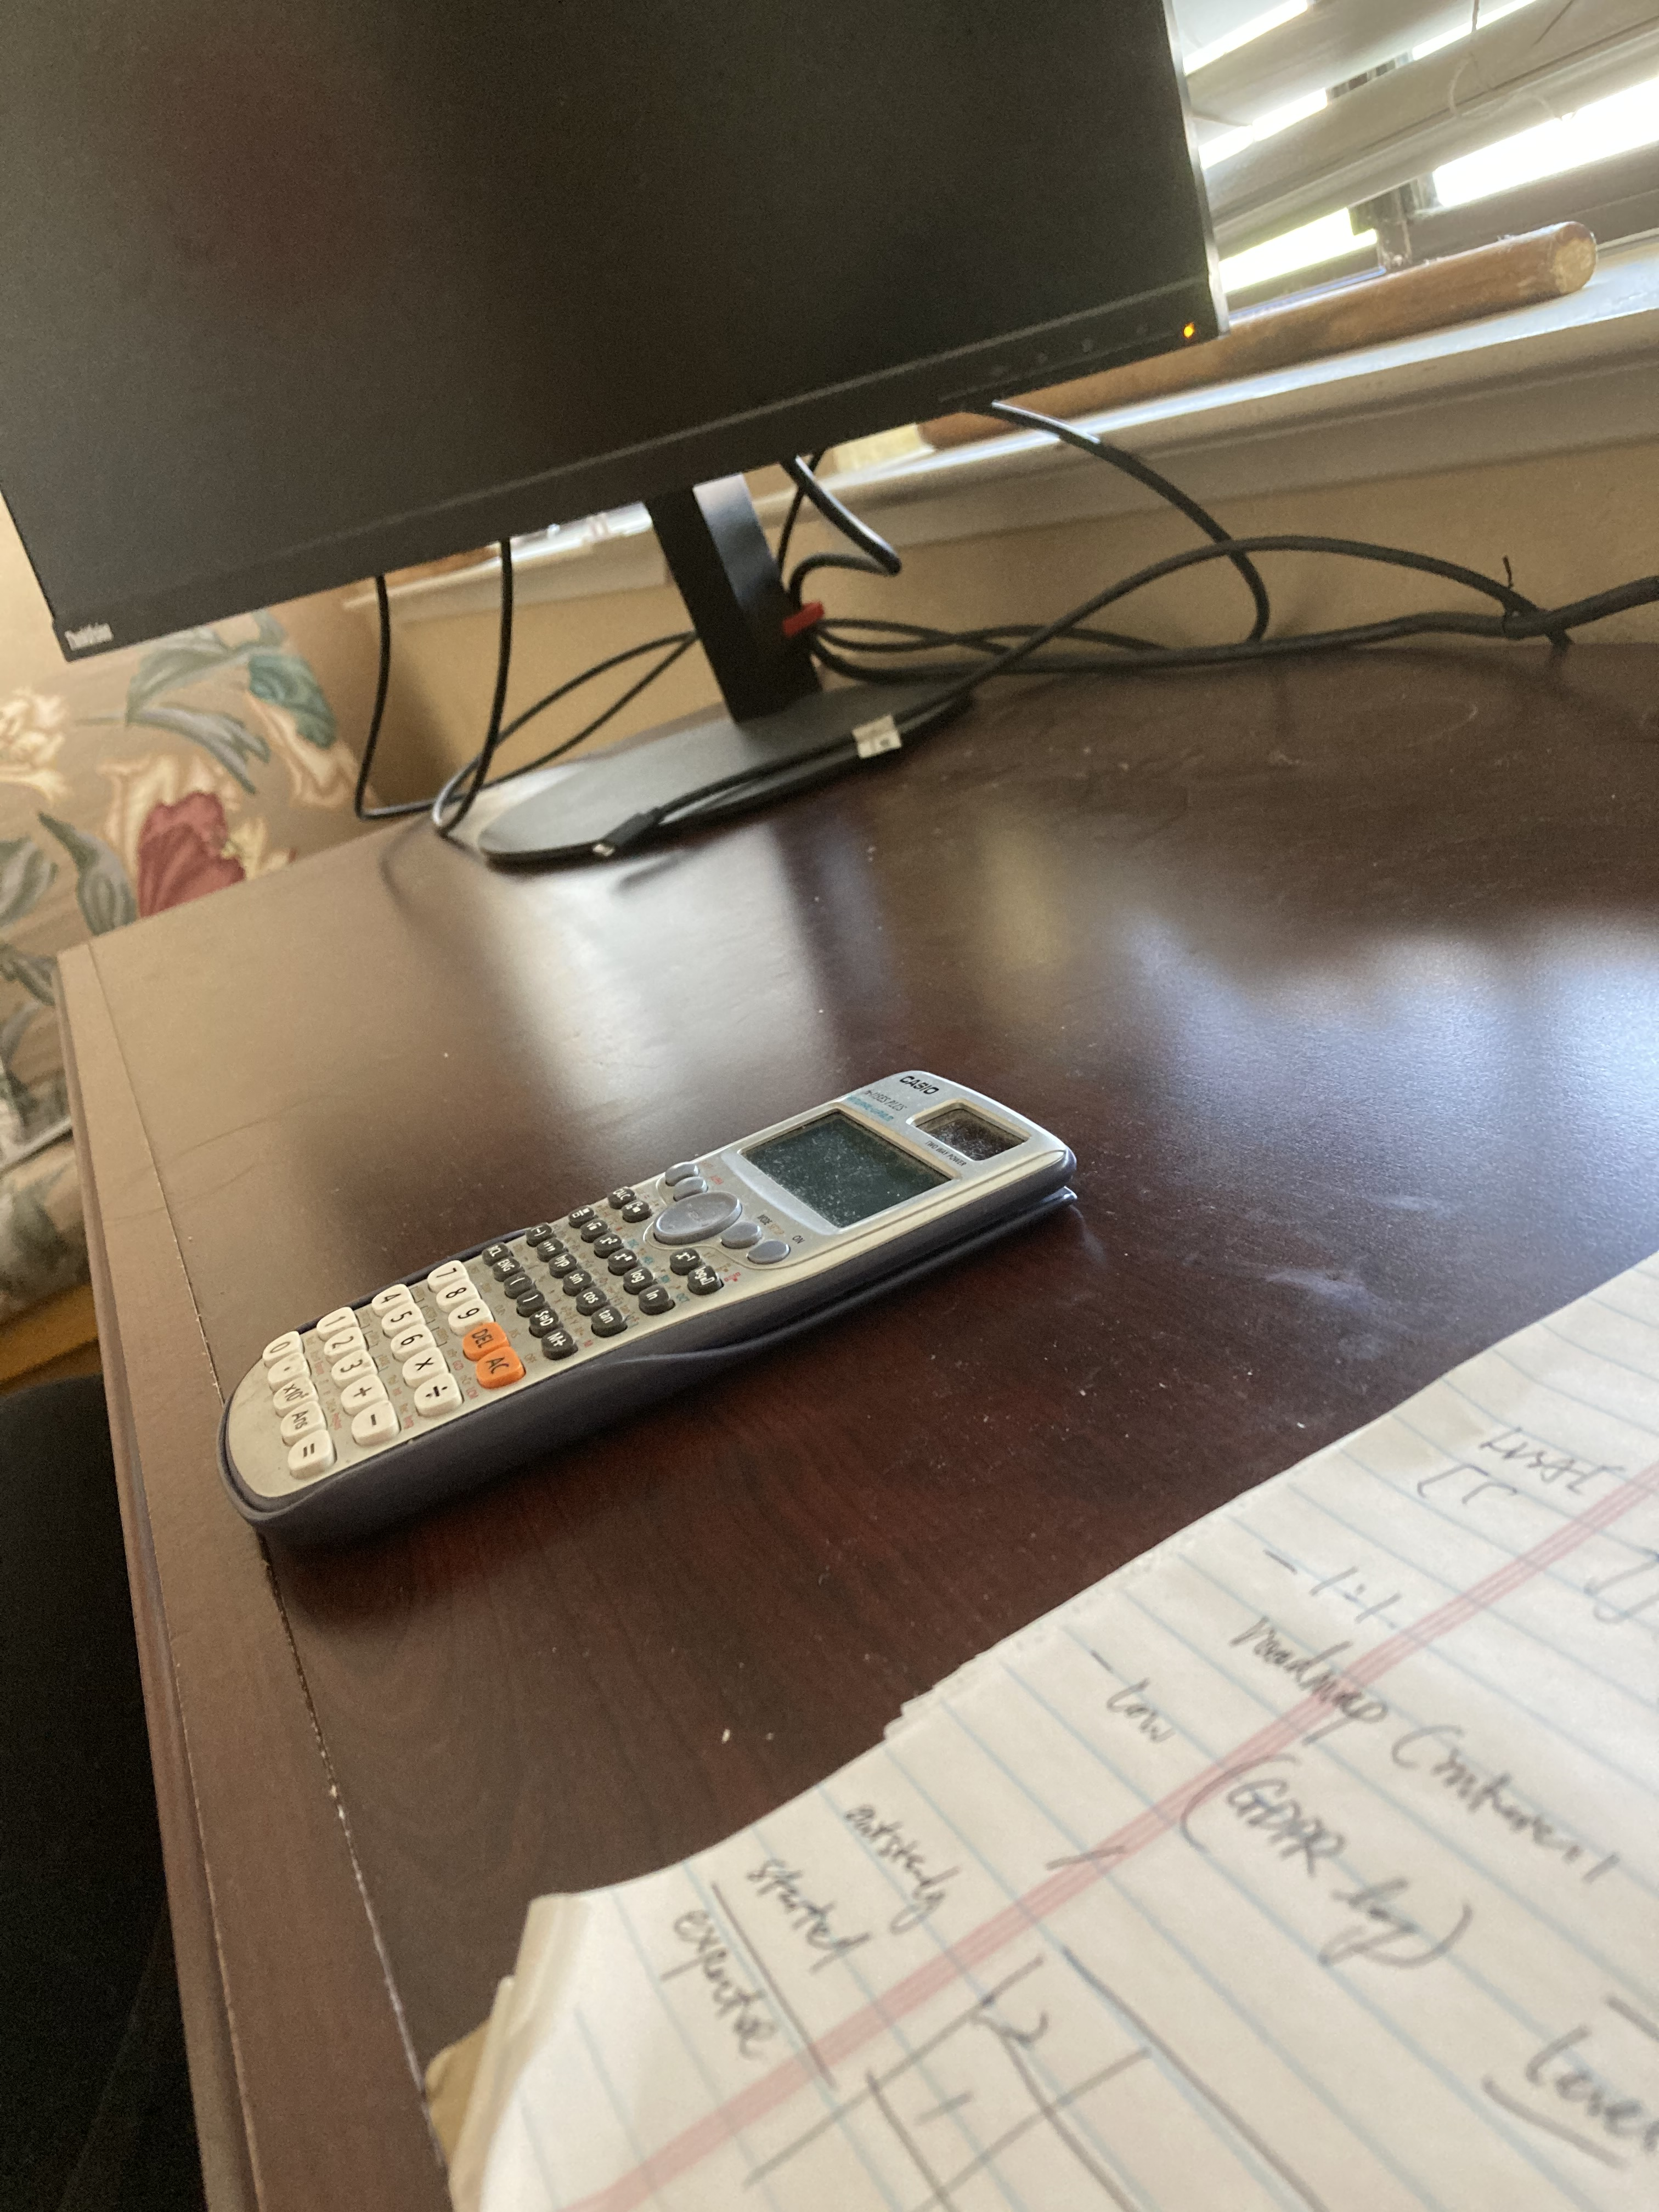Calculator: (213, 1071, 1098, 1562)
